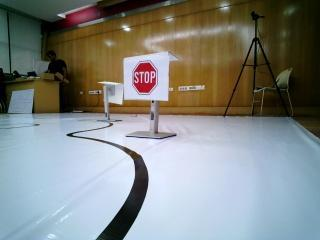stop: (121, 57, 169, 97)
